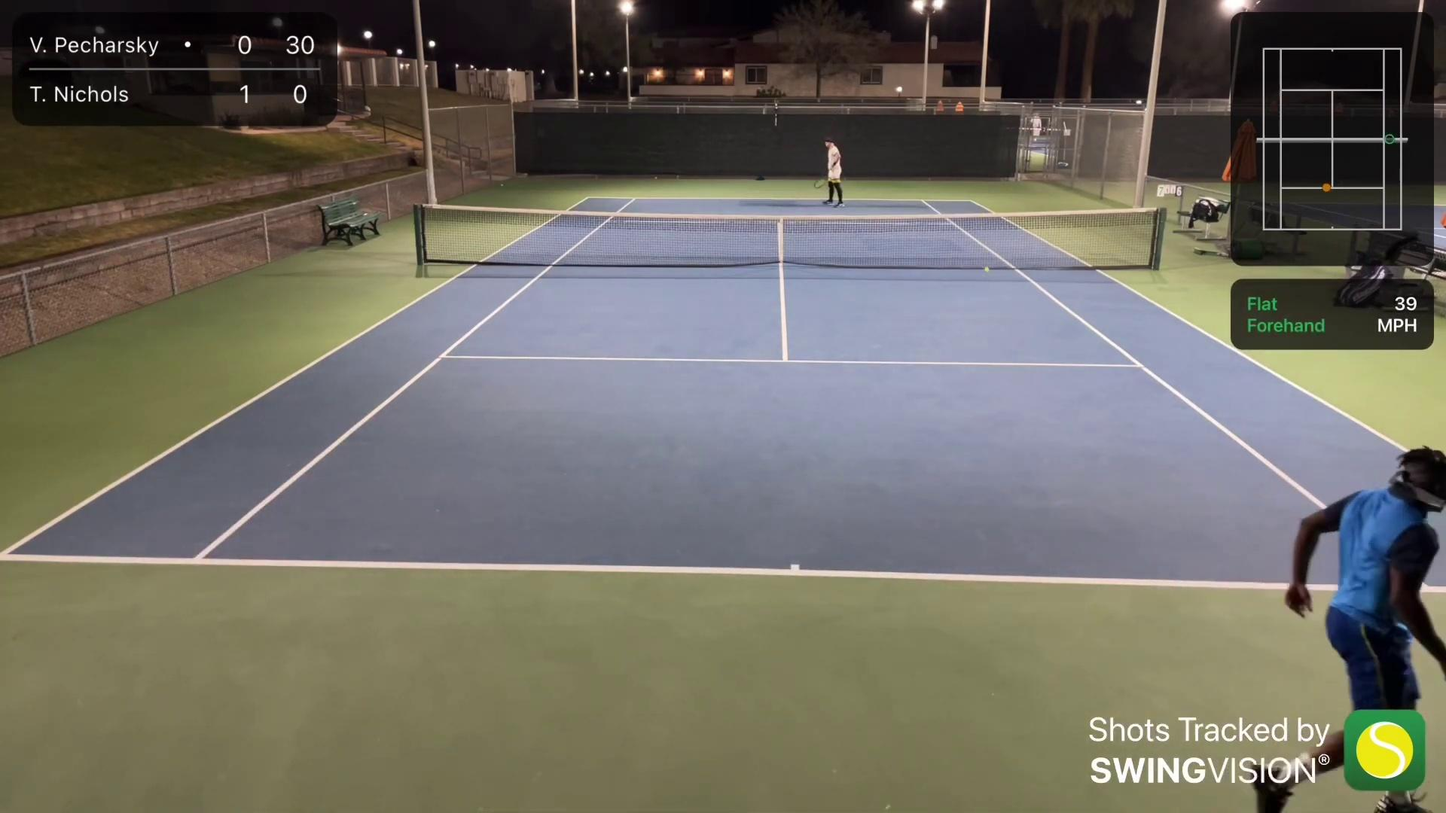ball: (984, 265, 990, 272)
